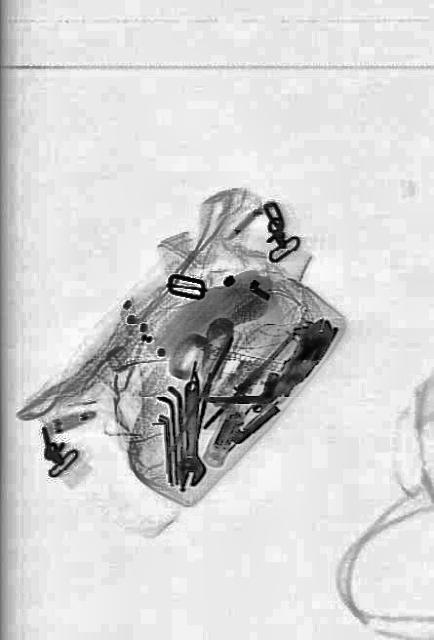Wrench: (174, 378, 206, 487)
